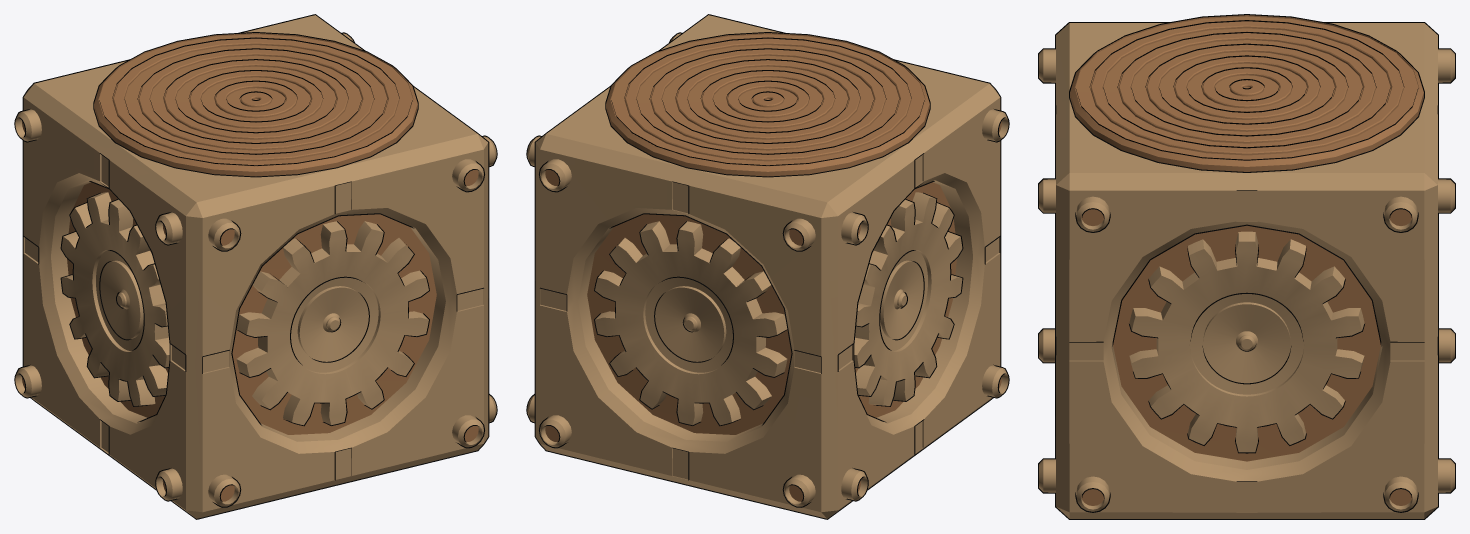
Rendered from Platform5.fbx.
3 views of the same model, side by side, from view 1: azimuth 30°, elevation 25°; view 2: azimuth 150°, elevation 25°; view 3: azimuth 270°, elevation 25° (orthographic). The views are drawn at different scales.
Visible parts, largest first — view 1: Cube; view 2: Cube; view 3: Cube.
Boxes of the visible parts, bbox=[...] form: Cube: bbox=[14, 14, 497, 519]; Cube: bbox=[526, 14, 1009, 519]; Cube: bbox=[1038, 14, 1455, 519].
Size of the model in its own units: 218 by 206 by 218.
